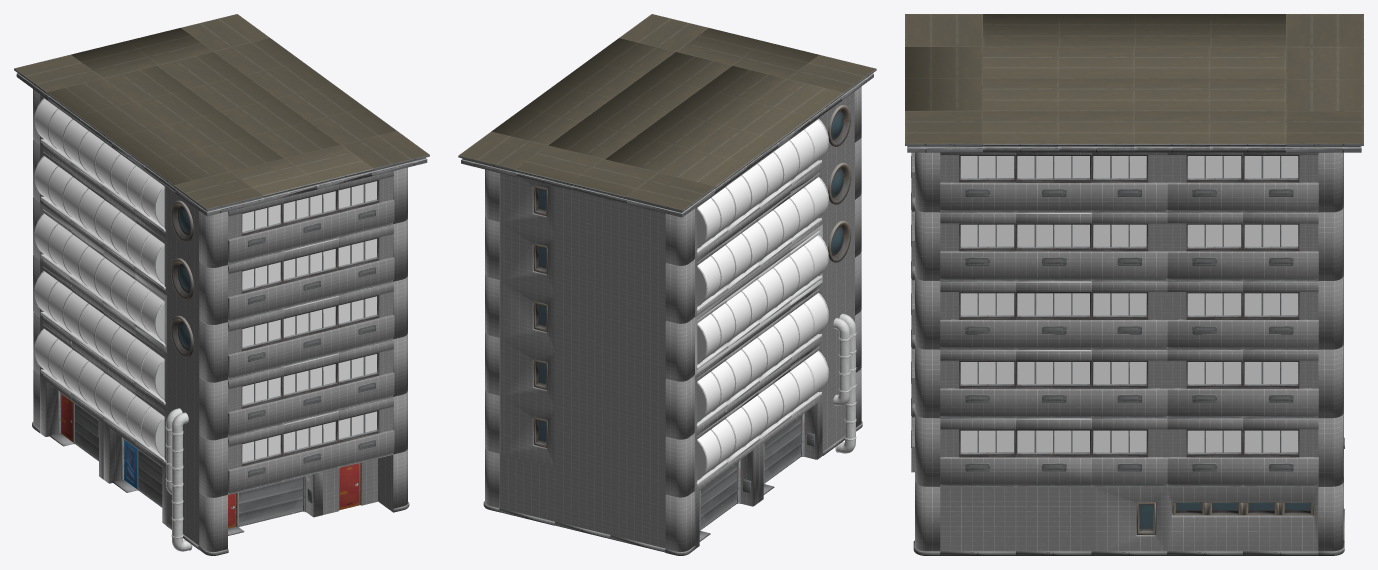
The picture shows the model from 3 angles, left to right: view 1: azimuth 30°, elevation 25°; view 2: azimuth 150°, elevation 25°; view 3: azimuth 270°, elevation 25°; orthographic projection. The views are drawn at different scales.
Parts seen in each view (by area): view 1: SM_BlockA5_3; view 2: SM_BlockA5_3; view 3: SM_BlockA5_3.
Boxes of the visible parts, left/top/right/bottom form: SM_BlockA5_3: left=14, top=14, right=429, bottom=555; SM_BlockA5_3: left=458, top=14, right=876, bottom=555; SM_BlockA5_3: left=905, top=14, right=1363, bottom=555.
Size of the model in its own units: 12.55 by 18.93 by 18.18.
